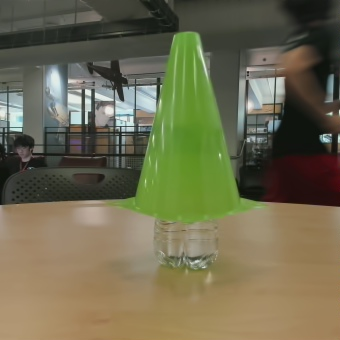Cone: (132, 29, 239, 207)
